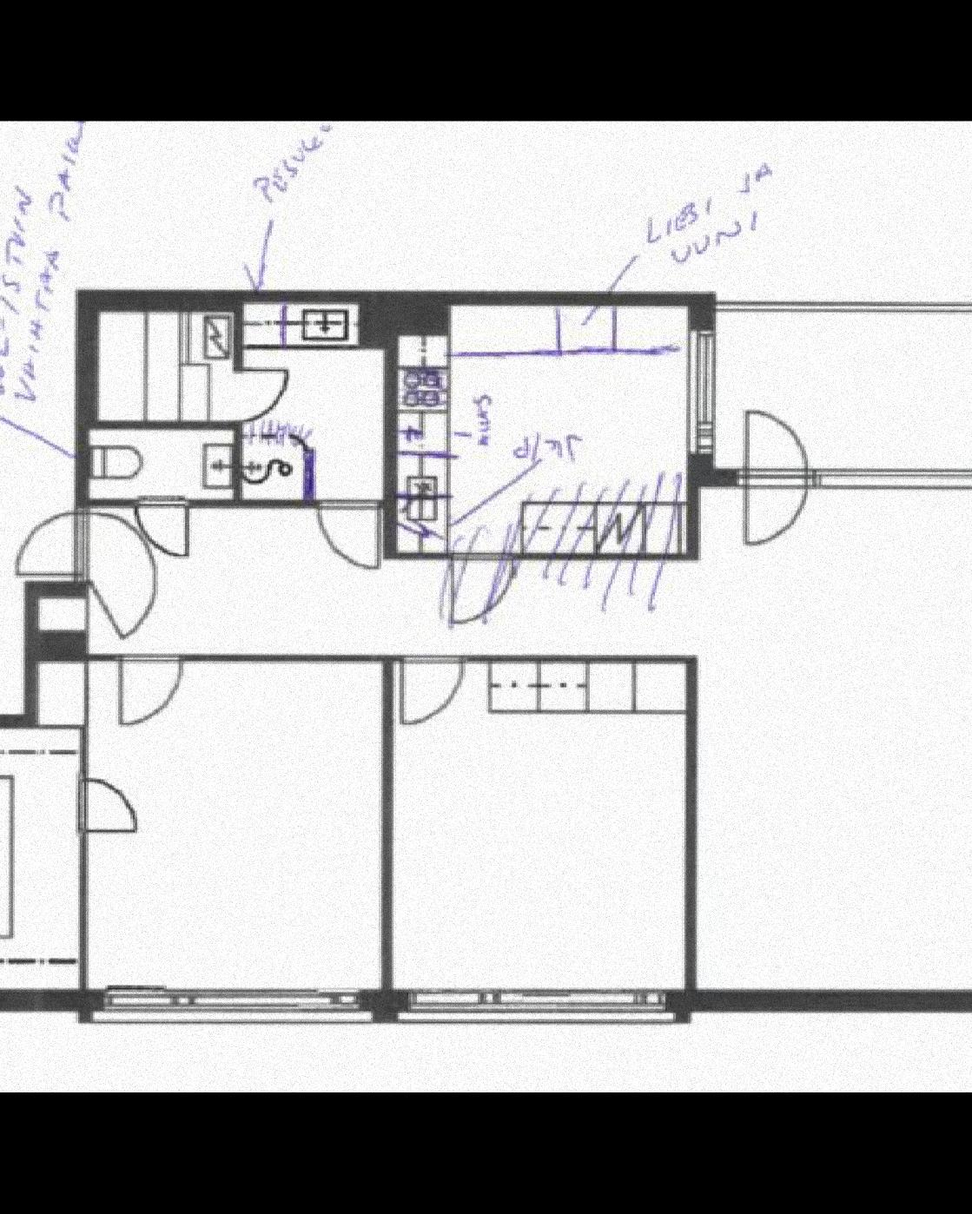door: (80, 488, 972, 1009), (87, 665, 387, 992), (396, 664, 685, 992), (393, 304, 688, 546), (93, 303, 387, 503), (711, 308, 972, 477), (0, 664, 83, 992), (93, 430, 231, 499)
window: (11, 509, 157, 633), (741, 412, 803, 548), (101, 653, 177, 726), (75, 772, 145, 838), (395, 658, 462, 726), (316, 503, 380, 569), (135, 498, 191, 563)
zone: (91, 990, 374, 1029), (401, 985, 673, 1024), (691, 324, 714, 454)
